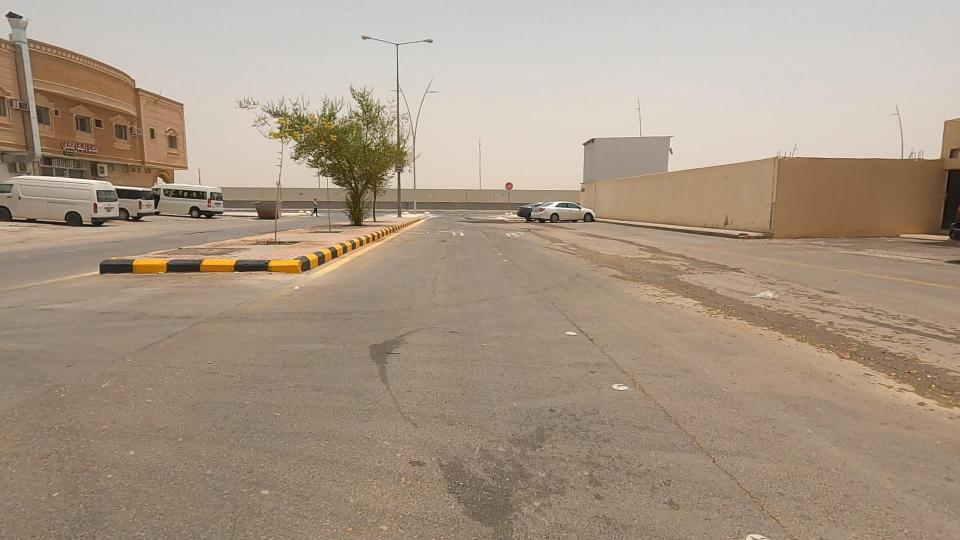GARBAGE: (730, 270, 797, 315)
POTHOLES: (701, 279, 921, 402), (643, 239, 798, 349), (584, 210, 726, 319)
